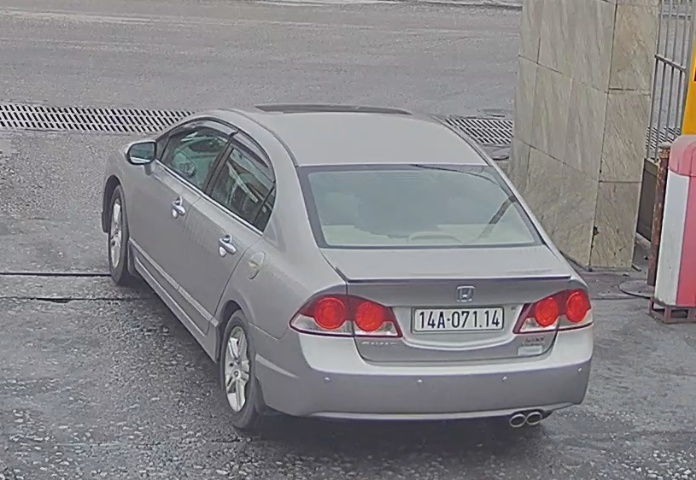vehicle plate: (406, 297, 509, 333)
